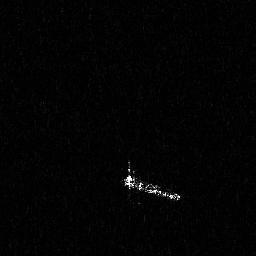ship: (120, 160, 182, 204)
